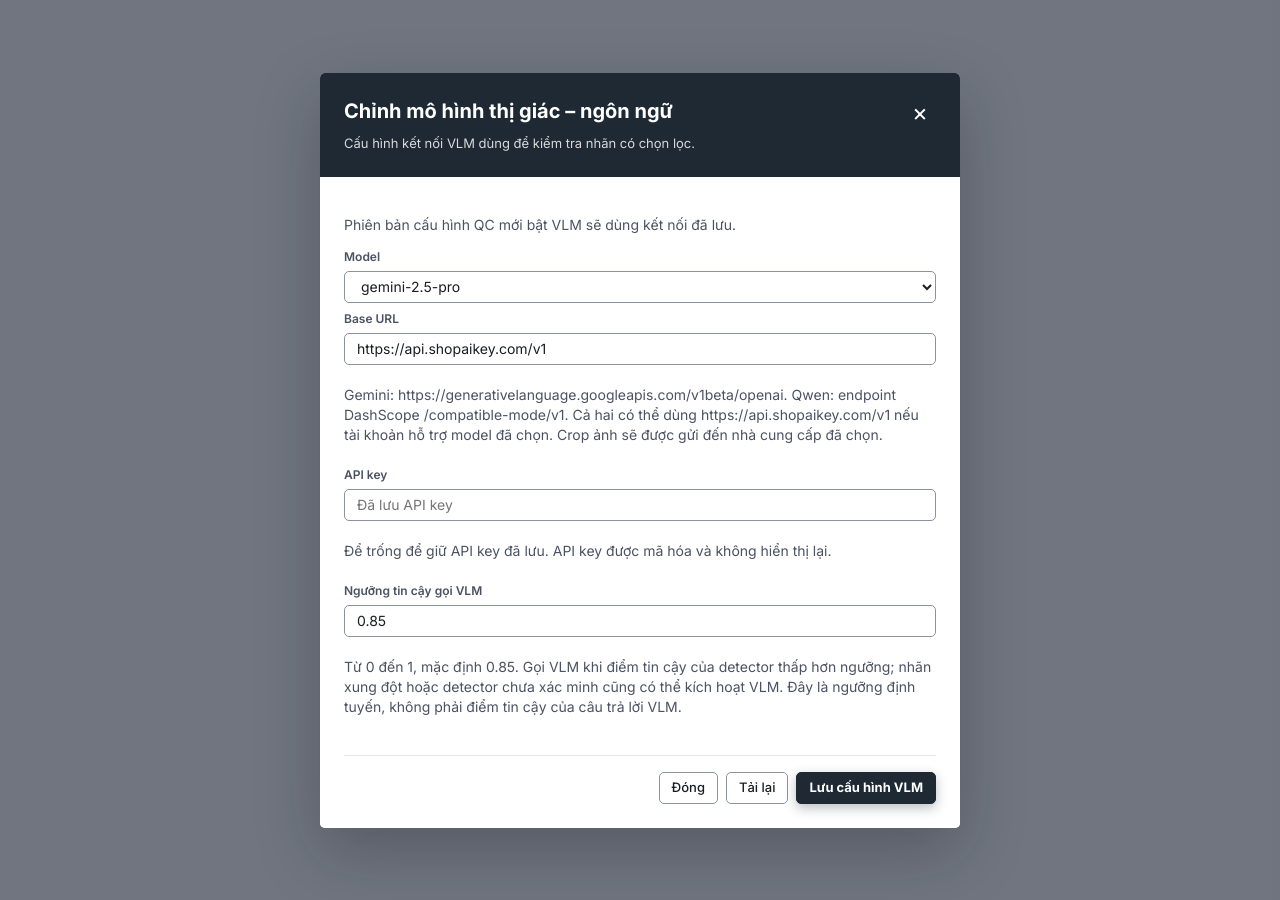
Scenario: VLM settings › restores the saved Gemini selection on reload
Select "qwen3-vl-plus" in the dropdown labelled "Model": {"x": 640, "y": 286} [344, 270, 936, 302]
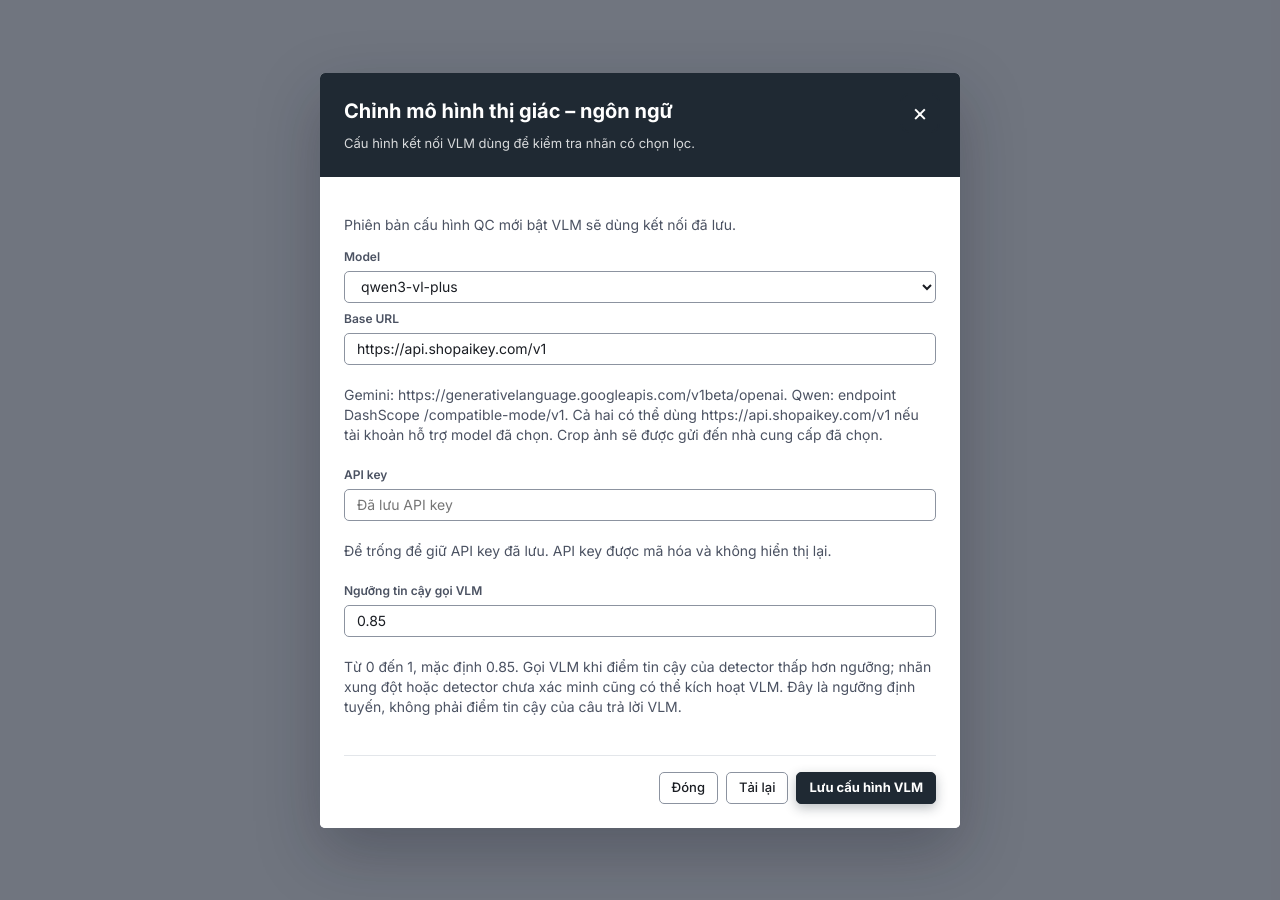
Click the button "Tải lại": {"x": 757, "y": 788} [726, 772, 788, 804]
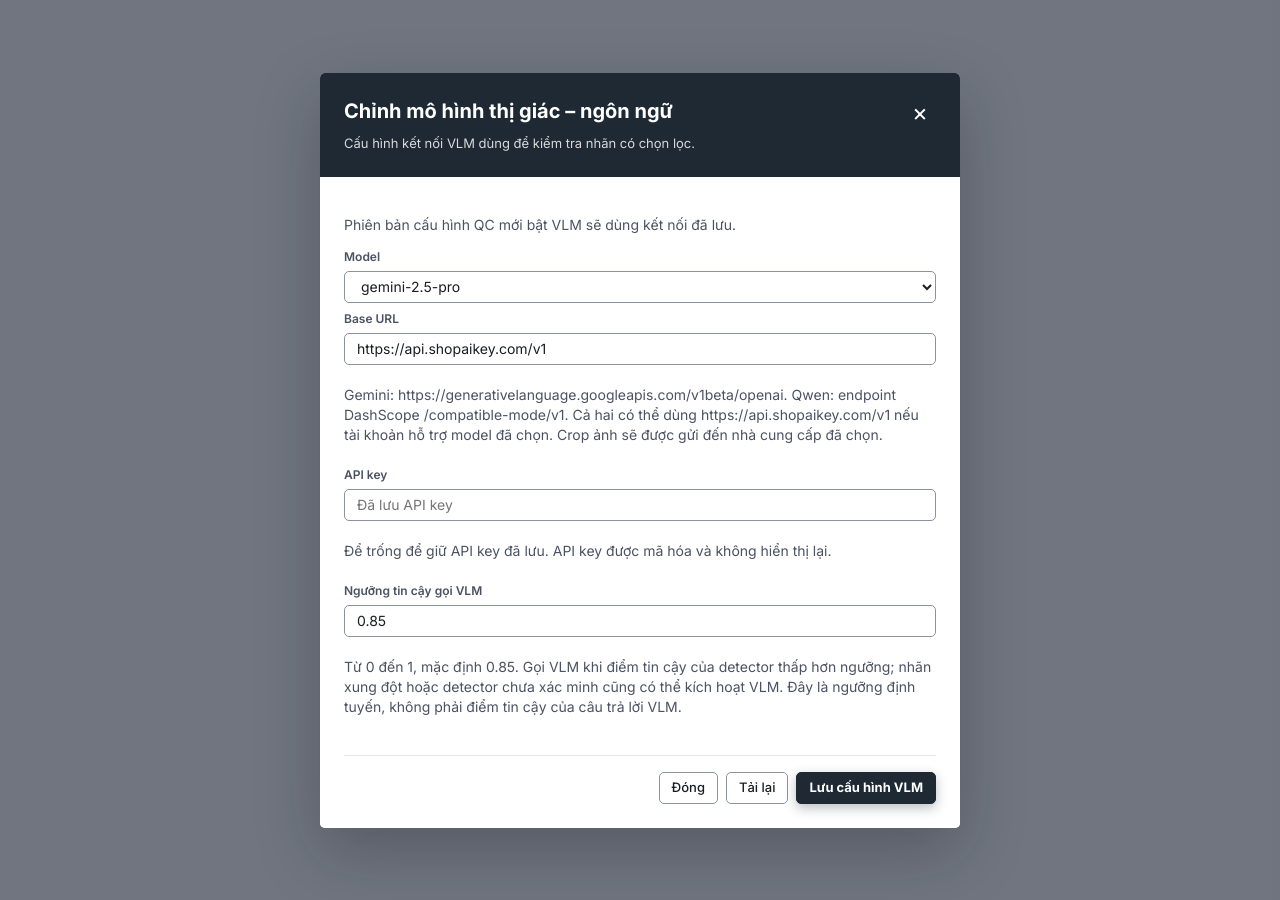
Result: the dropdown labelled "Model" shows "gemini-2.5-pro" at [344, 270, 936, 302]
